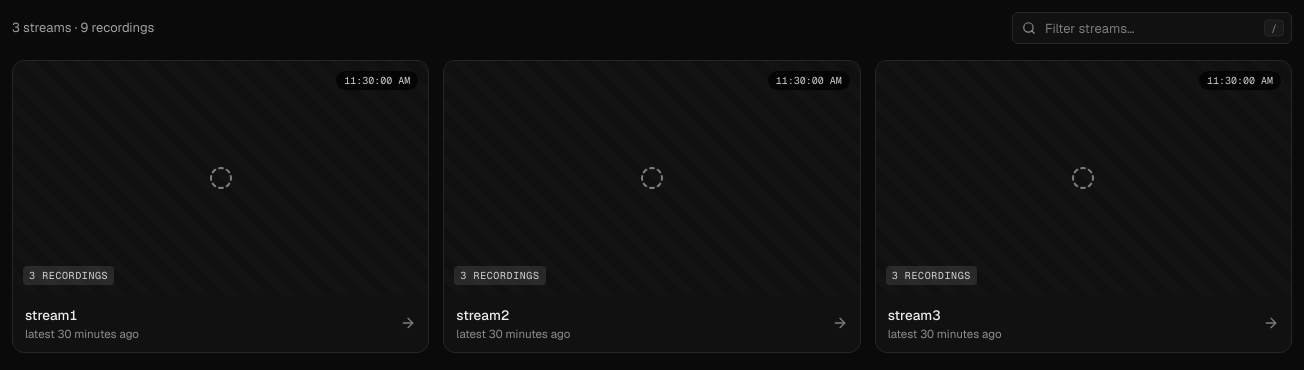
Scenario: the client-side filter › explains an empty result instead of rendering a bare grid
Type "definitely-no-such-stream" into the search field labelled "Filter streams".
click(1152, 28); type("definitely-no-such-stream")  # box [1012, 12, 1292, 44]
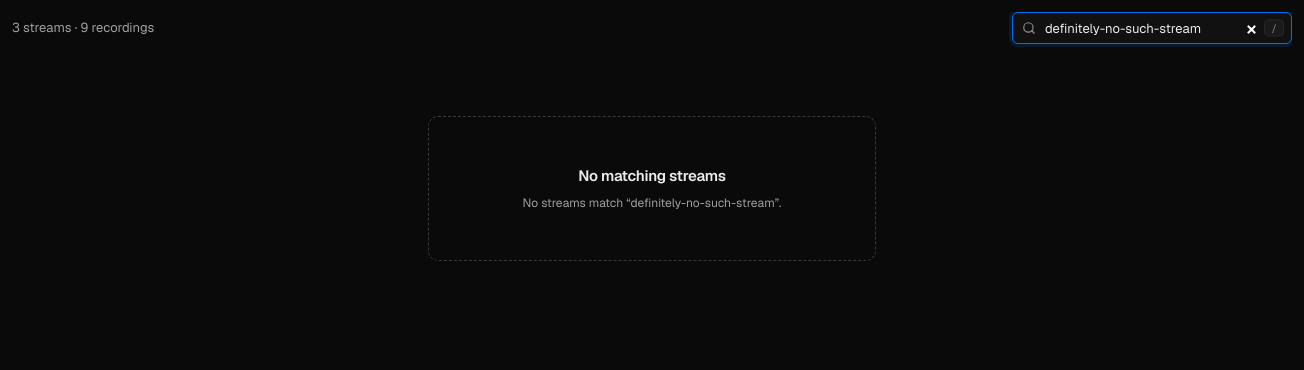
Expected: no links with test id "stream-summary-card" are shown
Expected: the heading "No matching streams" is shown, [578, 166, 726, 185]
